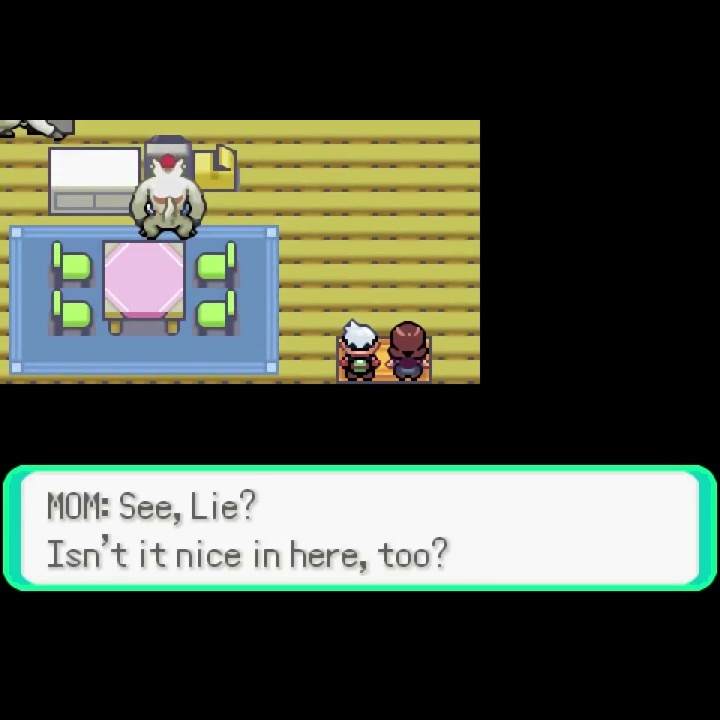agent: (335, 316, 383, 382)
exit: (333, 334, 435, 433)
npc: (384, 319, 432, 381)
